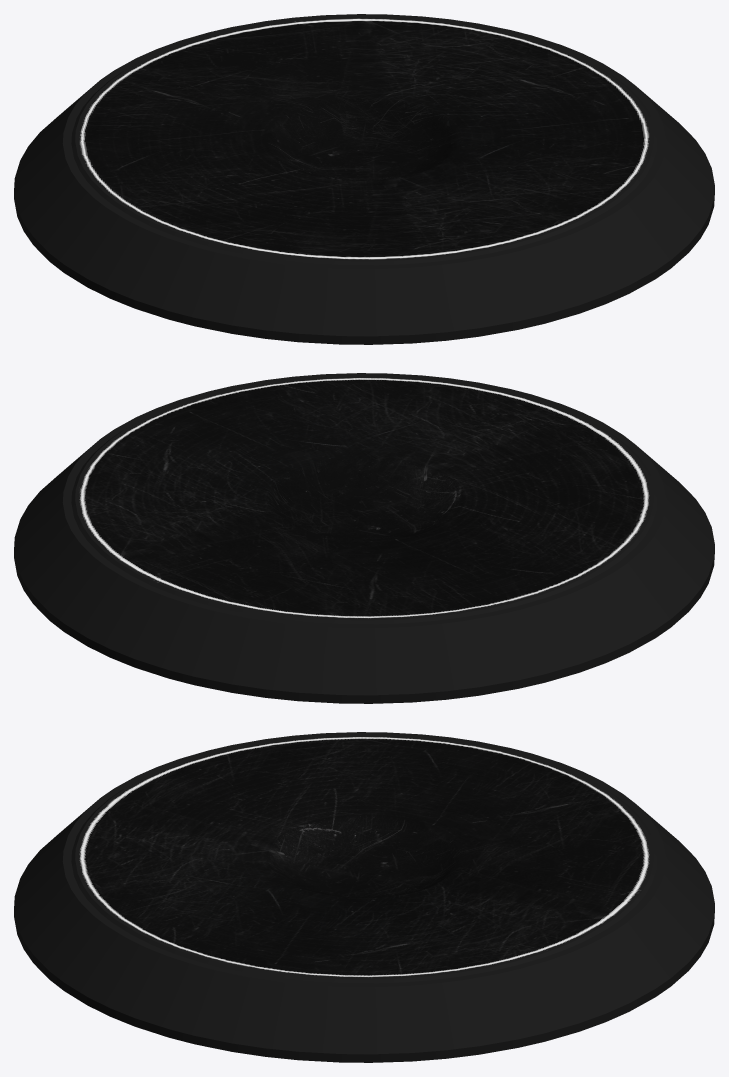
The model's file is Jog.fbx.
3 renders of one model, top to bottom at view 1: azimuth 30°, elevation 25°; view 2: azimuth 150°, elevation 25°; view 3: azimuth 270°, elevation 25°, orthographic.
Parts seen in each view (by area): view 1: Jog; view 2: Jog; view 3: Jog.
Part boxes in pixels (x1=…): Jog: x1=14, y1=14, x2=714, y2=344; Jog: x1=14, y1=373, x2=714, y2=703; Jog: x1=14, y1=732, x2=714, y2=1062.
Bounding box in the file's own units: 31.73 × 2.88 × 31.73.
Materials: 1 (1 with a texture image).
